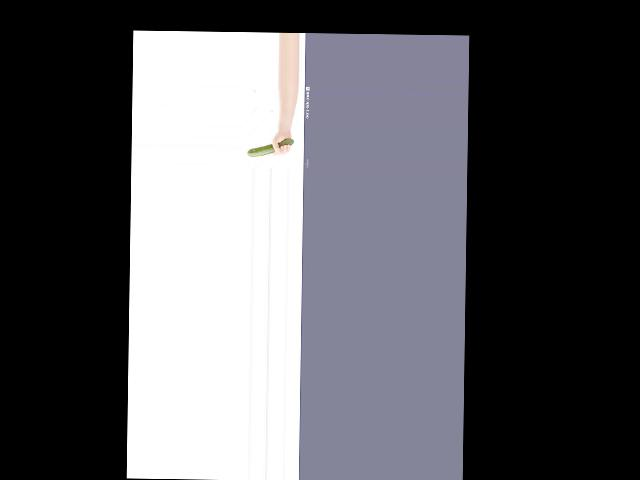cucumber: (247, 139, 294, 157)
